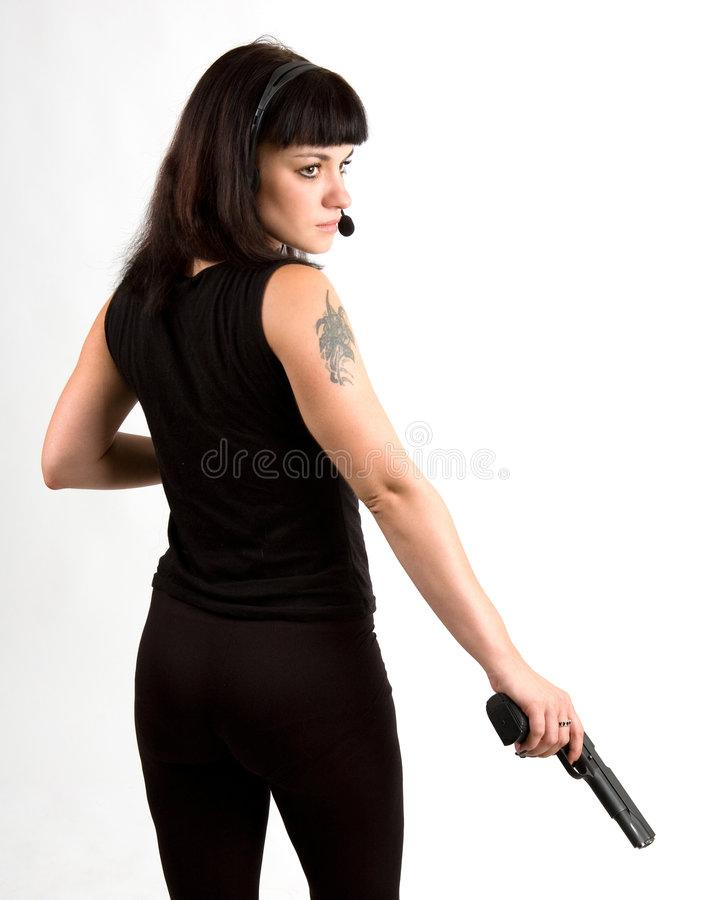criminal: (38, 32, 663, 900)
weapon: (476, 686, 663, 858)
